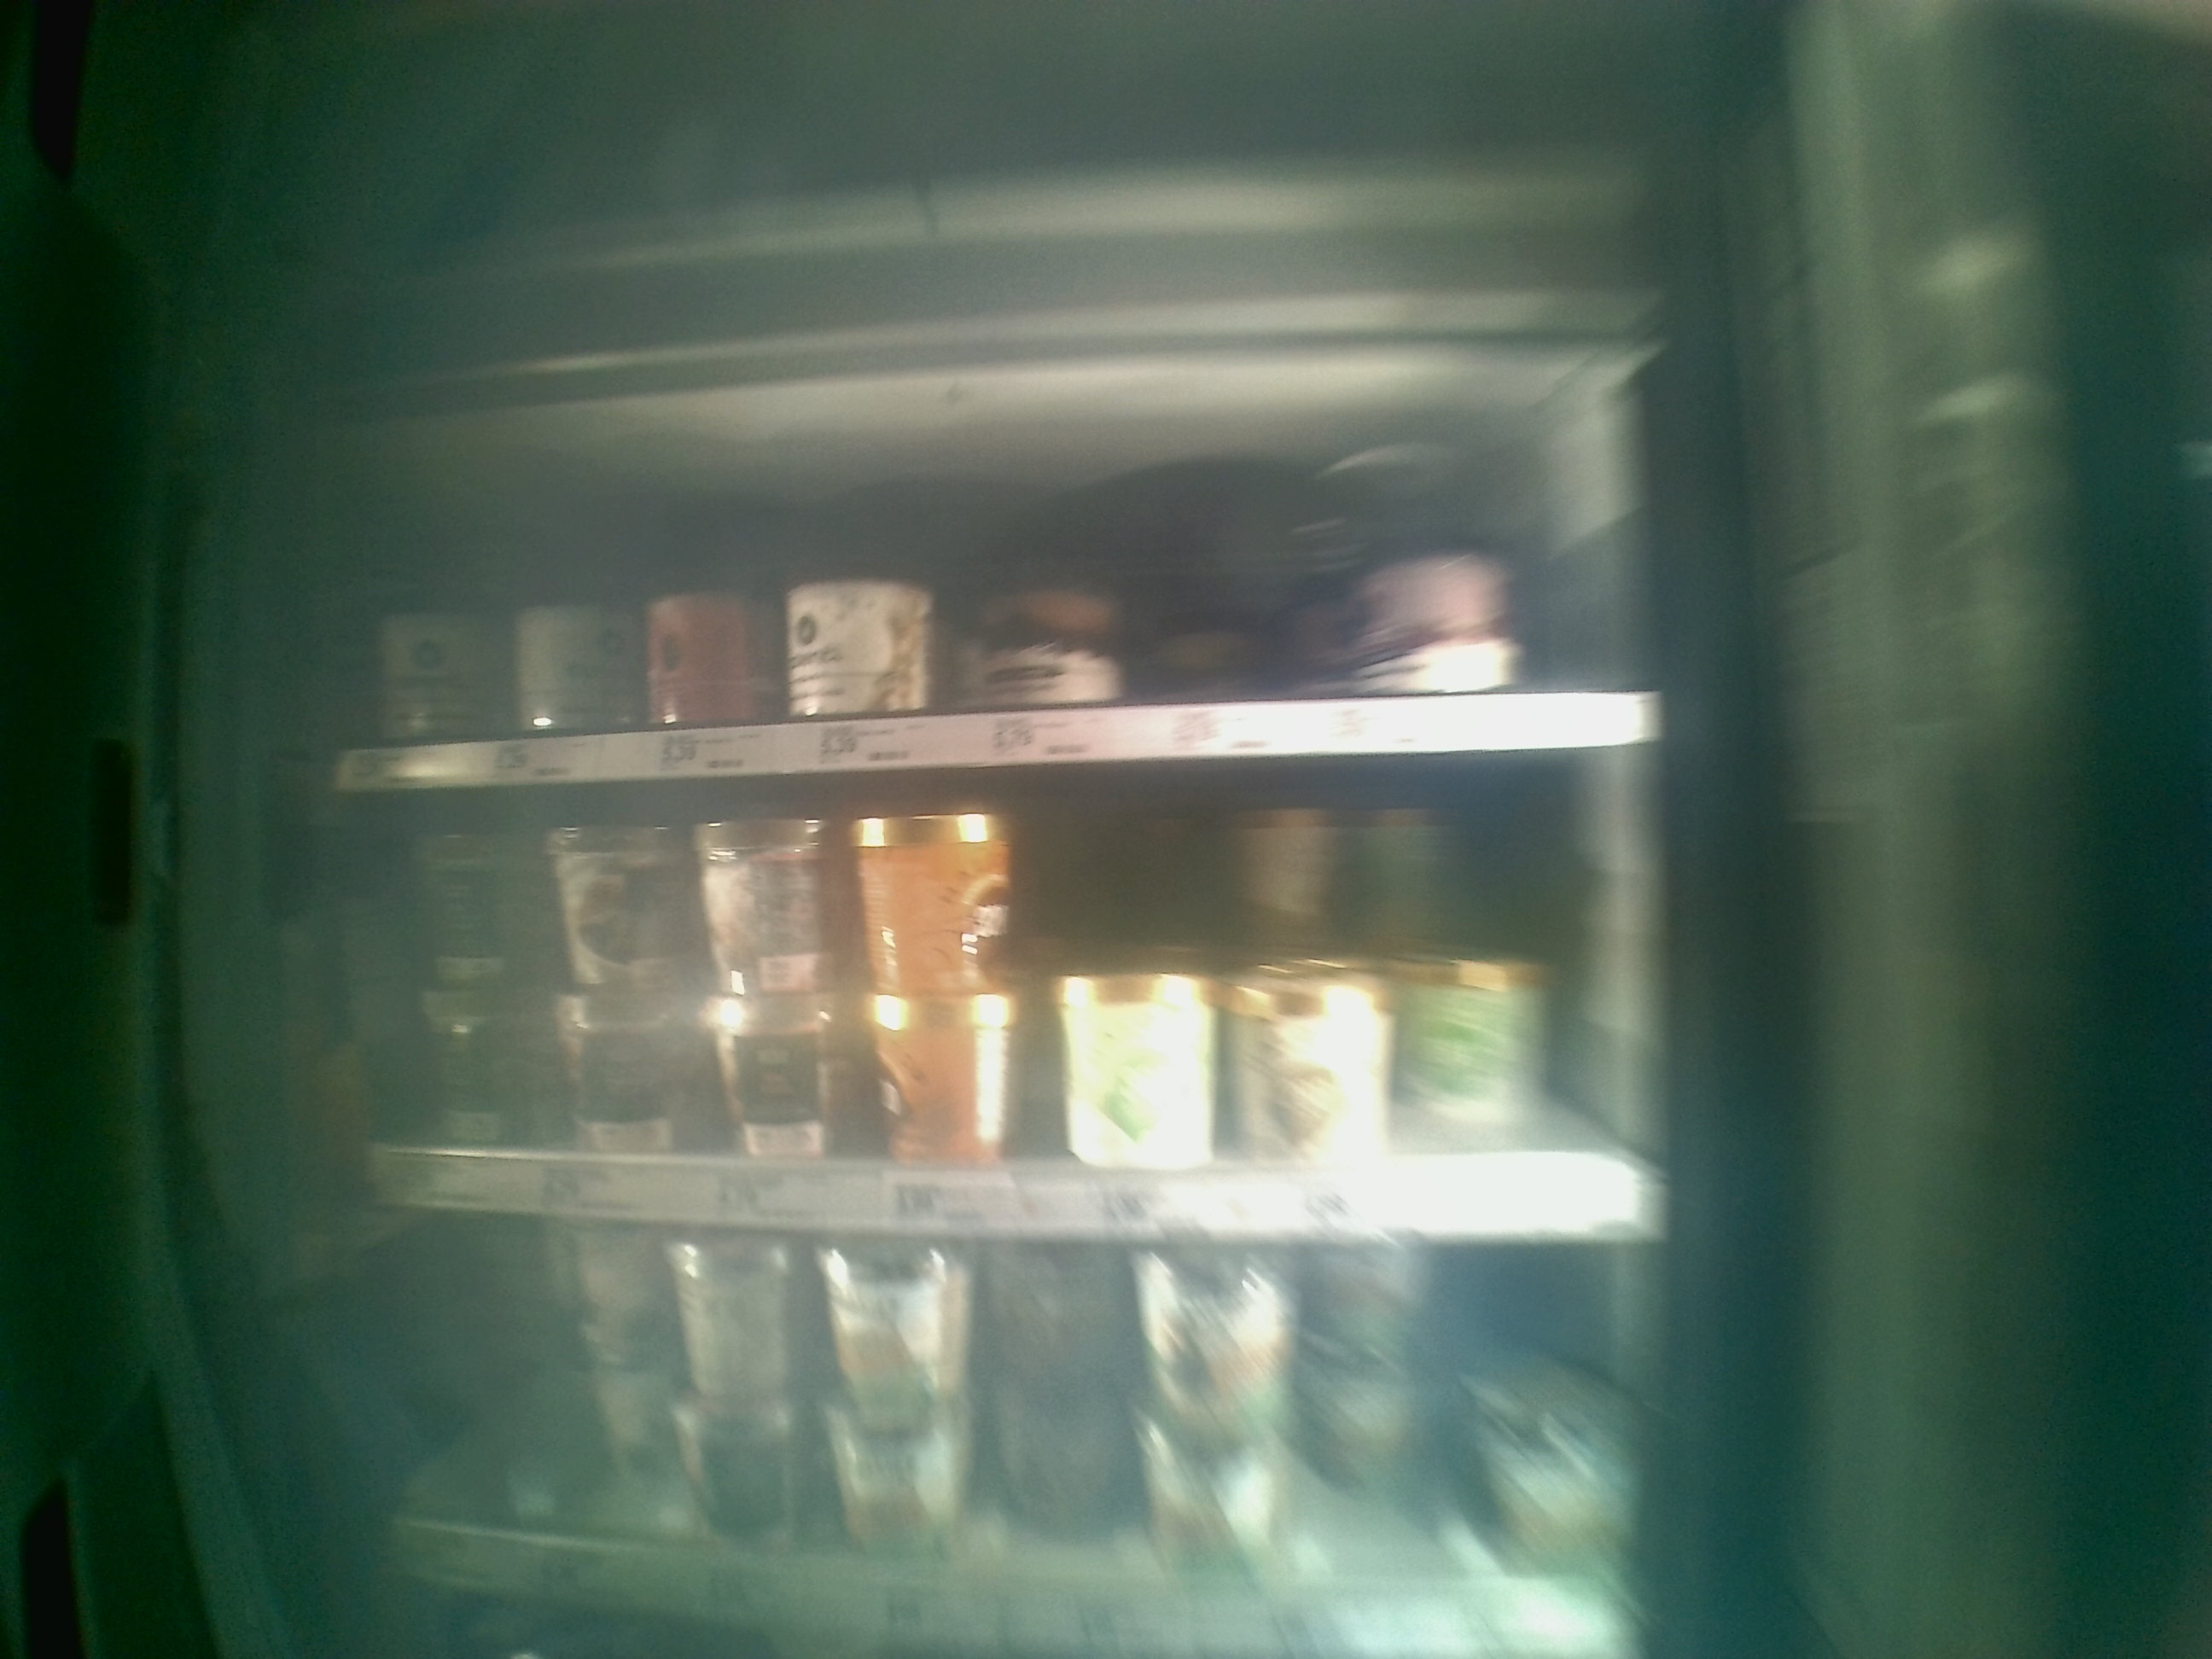shelf: (305, 397, 1635, 791)
